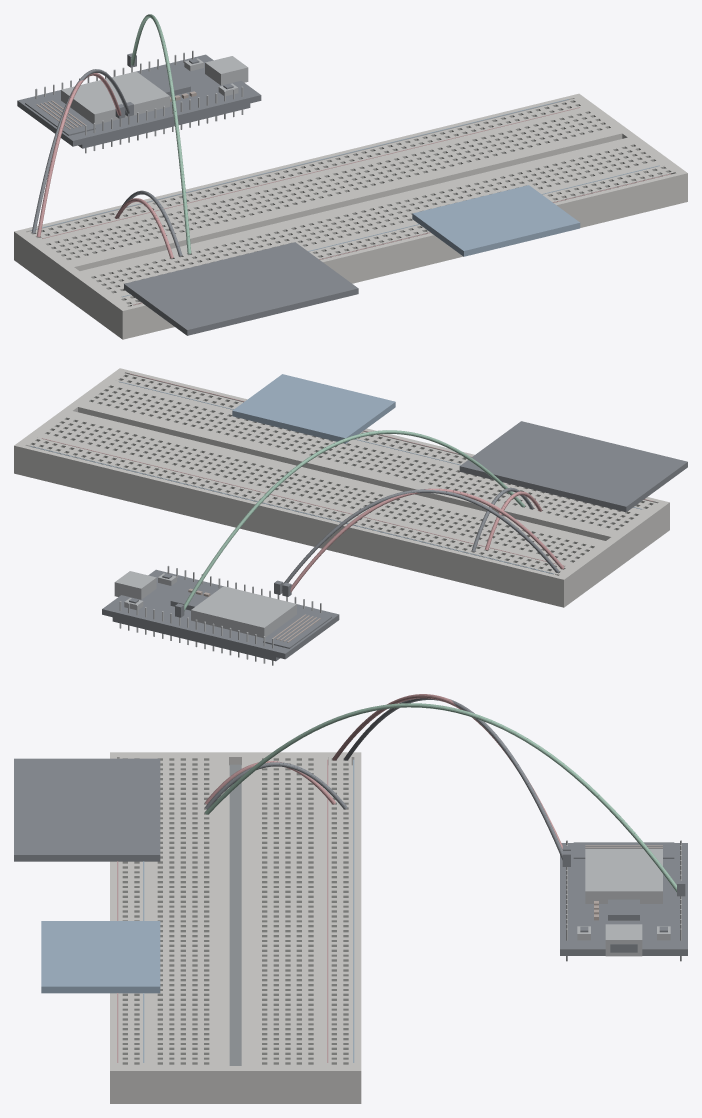
The model's file is step-8.glb.
3 views of the same model, one above another, from view 1: azimuth 30°, elevation 25°; view 2: azimuth 150°, elevation 25°; view 3: azimuth 270°, elevation 25° (orthographic). The views are drawn at different scales.
Visible parts, largest first — view 1: breadboard__mesh, uno__mesh, matrix__mesh, joystick__mesh, matrix_data__mesh, power_supply__mesh, ground_supply__mesh; view 2: breadboard__mesh, uno__mesh, matrix__mesh, joystick__mesh, matrix_data__mesh, ground_supply__mesh, power_supply__mesh; view 3: breadboard__mesh, matrix__mesh, uno__mesh, joystick__mesh, matrix_data__mesh, ground_supply__mesh, power_supply__mesh, matrix_ground__mesh.
Boxes of the visible parts, left/top/right/bottom form: breadboard__mesh: left=14, top=93, right=687, bottom=339; uno__mesh: left=17, top=50, right=261, bottom=153; matrix__mesh: left=124, top=242, right=358, bottom=335; joystick__mesh: left=412, top=185, right=580, bottom=256; matrix_data__mesh: left=127, top=14, right=191, bottom=254; power_supply__mesh: left=36, top=73, right=125, bottom=237; ground_supply__mesh: left=31, top=69, right=133, bottom=233; breadboard__mesh: left=14, top=368, right=669, bottom=607; uno__mesh: left=102, top=565, right=339, bottom=665; matrix__mesh: left=459, top=421, right=687, bottom=512; joystick__mesh: left=232, top=374, right=395, bottom=443; matrix_data__mesh: left=175, top=430, right=524, bottom=617; ground_supply__mesh: left=274, top=489, right=559, bottom=594; power_supply__mesh: left=282, top=488, right=564, bottom=596; breadboard__mesh: left=110, top=752, right=361, bottom=1103; matrix__mesh: left=14, top=758, right=160, bottom=861; uno__mesh: left=560, top=840, right=687, bottom=961; joystick__mesh: left=41, top=921, right=160, bottom=993; matrix_data__mesh: left=205, top=703, right=685, bottom=896; ground_supply__mesh: left=344, top=698, right=570, bottom=866; power_supply__mesh: left=332, top=694, right=570, bottom=850; matrix_ground__mesh: left=205, top=762, right=347, bottom=809.
Bounding box in the file's own units: 0.165 × 0.044 × 0.1475.
